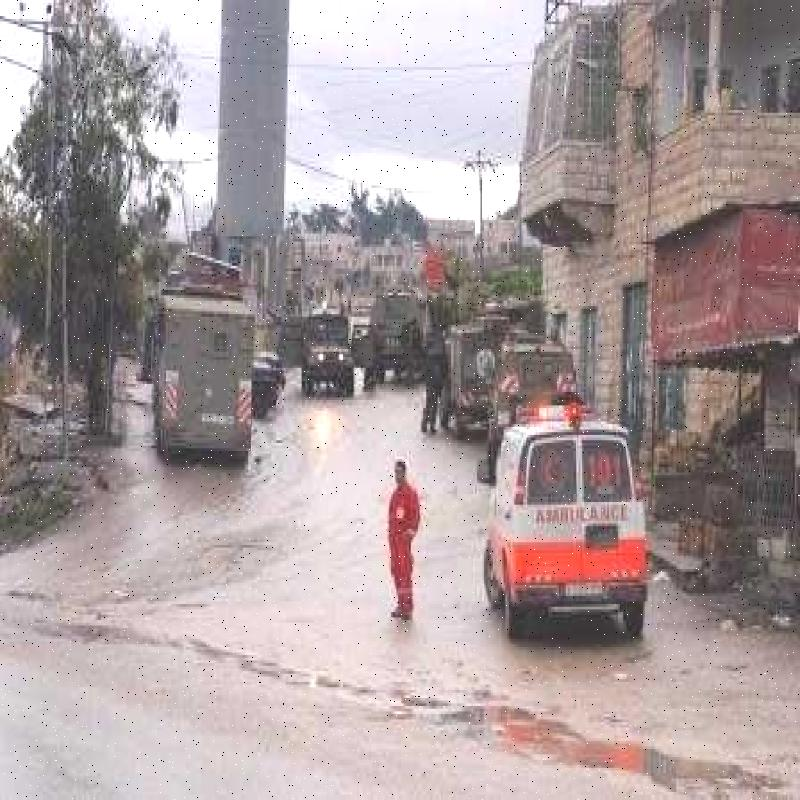AmbulanceSiren: (507, 399, 592, 433)
